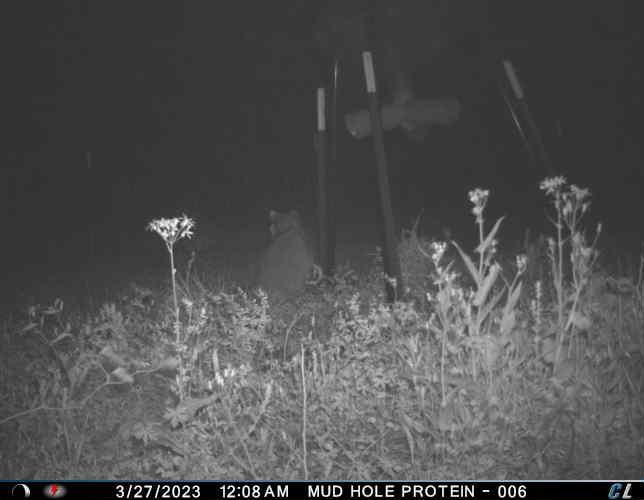Raccoon: (254, 204, 316, 301)
